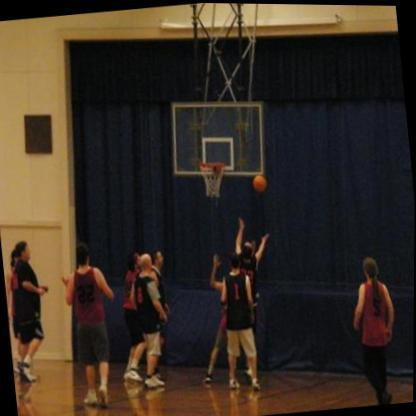basketball: (252, 172, 269, 193)
rim: (197, 158, 227, 173)
